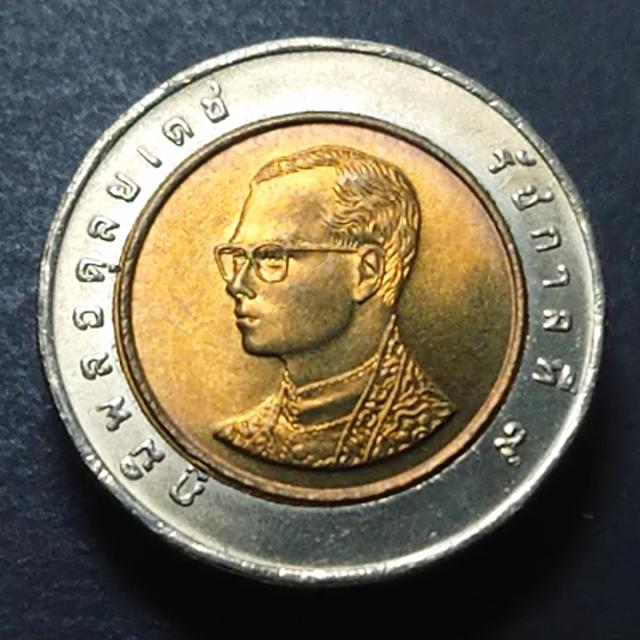10 Bath: (38, 38, 612, 597)
